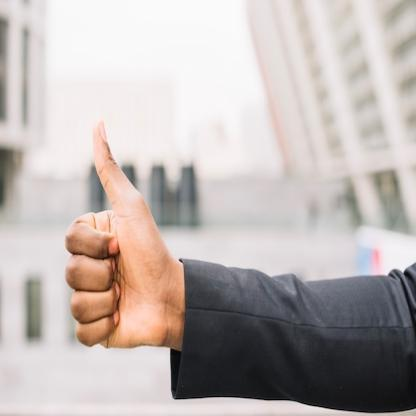thumb_up: (60, 110, 166, 366)
